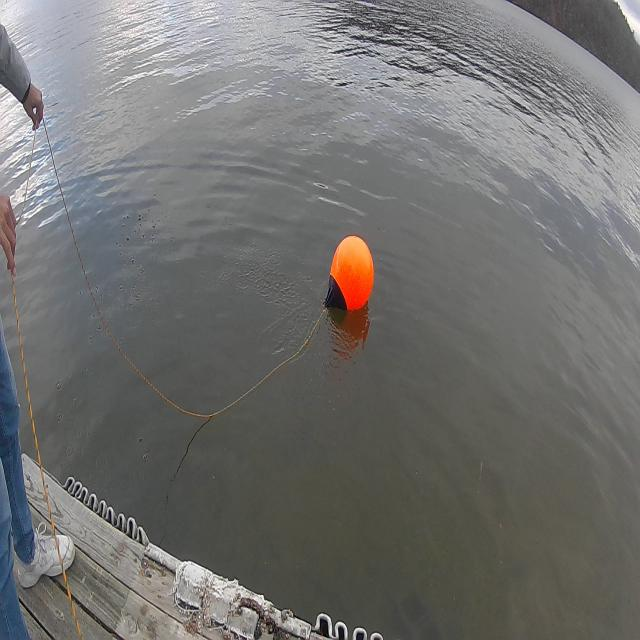Buoy: (324, 229, 378, 326)
